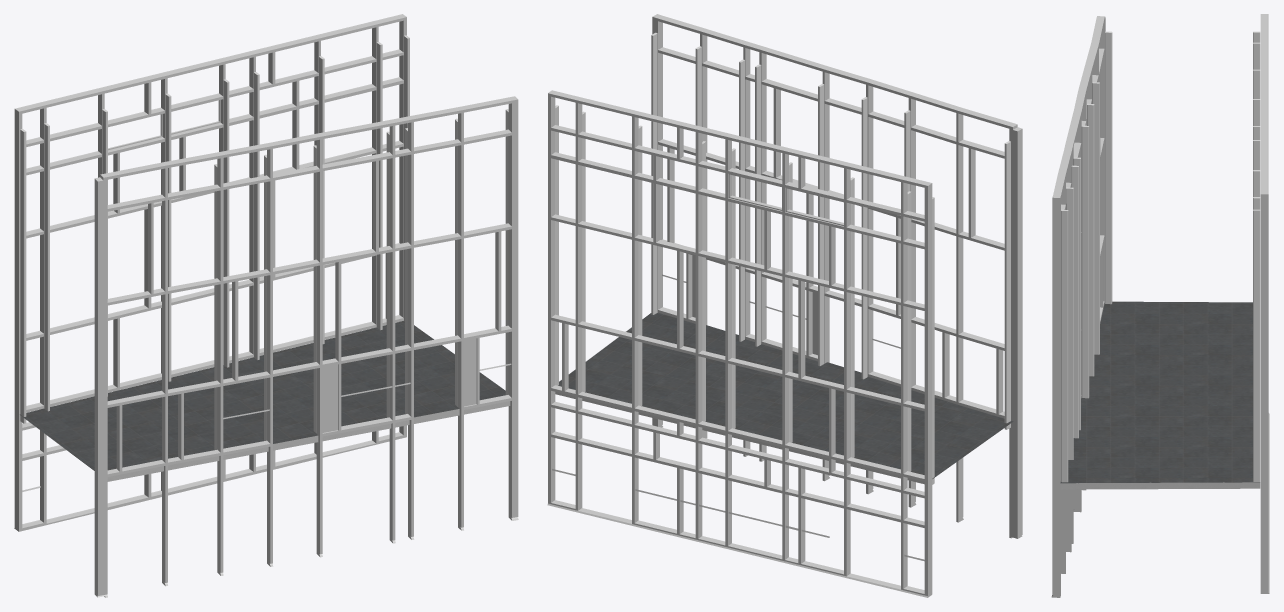
Rendered from 0_floor_hall_sized.glb.
The picture shows the model from 3 angles, left to right: view 1: azimuth 30°, elevation 25°; view 2: azimuth 150°, elevation 25°; view 3: azimuth 270°, elevation 25°; orthographic projection. The views are drawn at different scales.
Visible parts, largest first — view 1: Cube_141, UFR_MIM_V1_SOl, Cube_030; view 2: Cube_141, UFR_MIM_V1_SOl, Cube_030; view 3: UFR_MIM_V1_SOl, Cube_030, Cube_141.
Part boxes in pixels (bbox=[...]): Cube_141: bbox=[14, 14, 518, 597]; UFR_MIM_V1_SOl: bbox=[19, 321, 510, 481]; Cube_030: bbox=[20, 35, 508, 449]; Cube_141: bbox=[547, 14, 1022, 597]; UFR_MIM_V1_SOl: bbox=[555, 312, 1013, 484]; Cube_030: bbox=[555, 32, 1010, 484]; UFR_MIM_V1_SOl: bbox=[1060, 301, 1260, 489]; Cube_030: bbox=[1061, 31, 1260, 482]; Cube_141: bbox=[1051, 14, 1269, 597].
Size of what is drawn, in the model's own units: 15.04 by 15.29 by 7.51.
5 materials, 2 textured.
